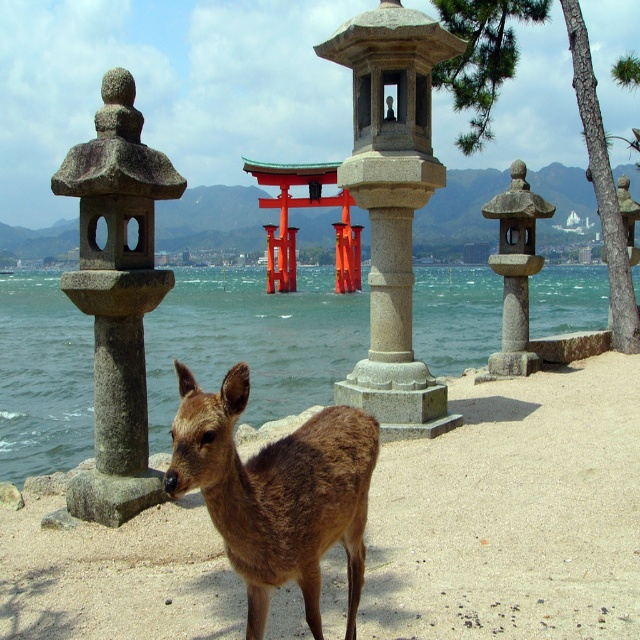Deer: (161, 361, 379, 639)
